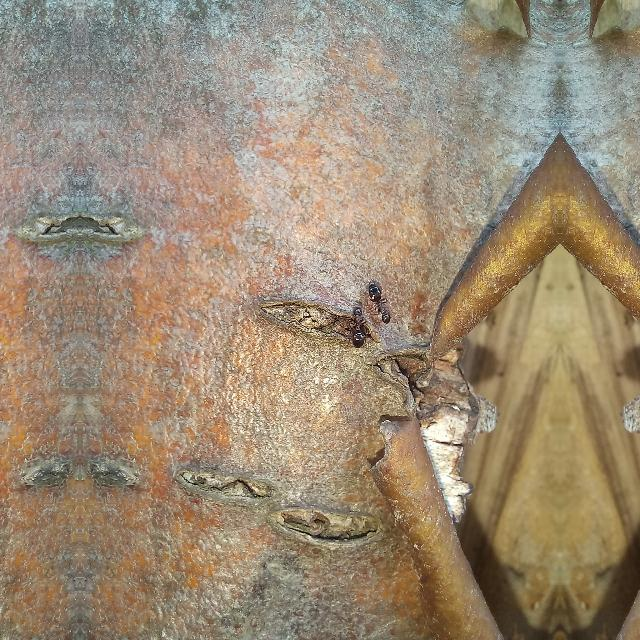Dolichoderus: (366, 270, 398, 326), (344, 296, 371, 348)
